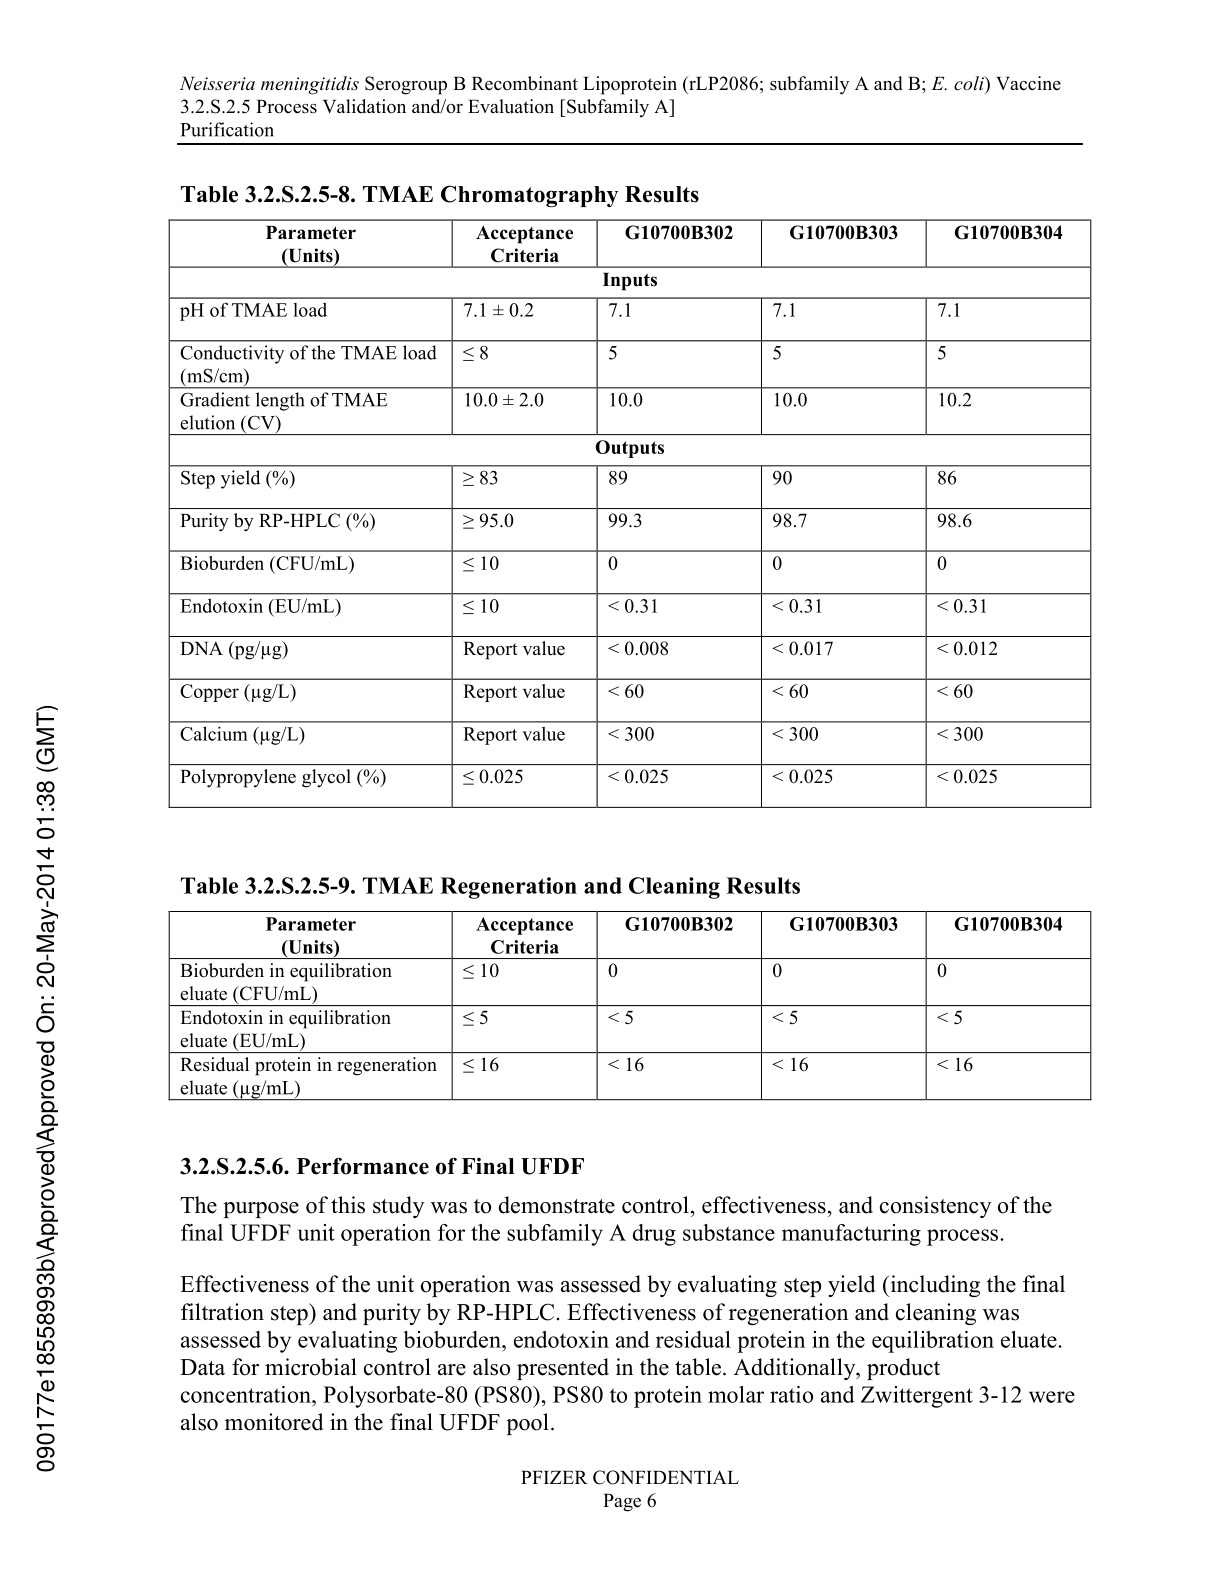full_lined: (167, 910, 1092, 1102)
merged_cells: (168, 219, 1093, 809)
